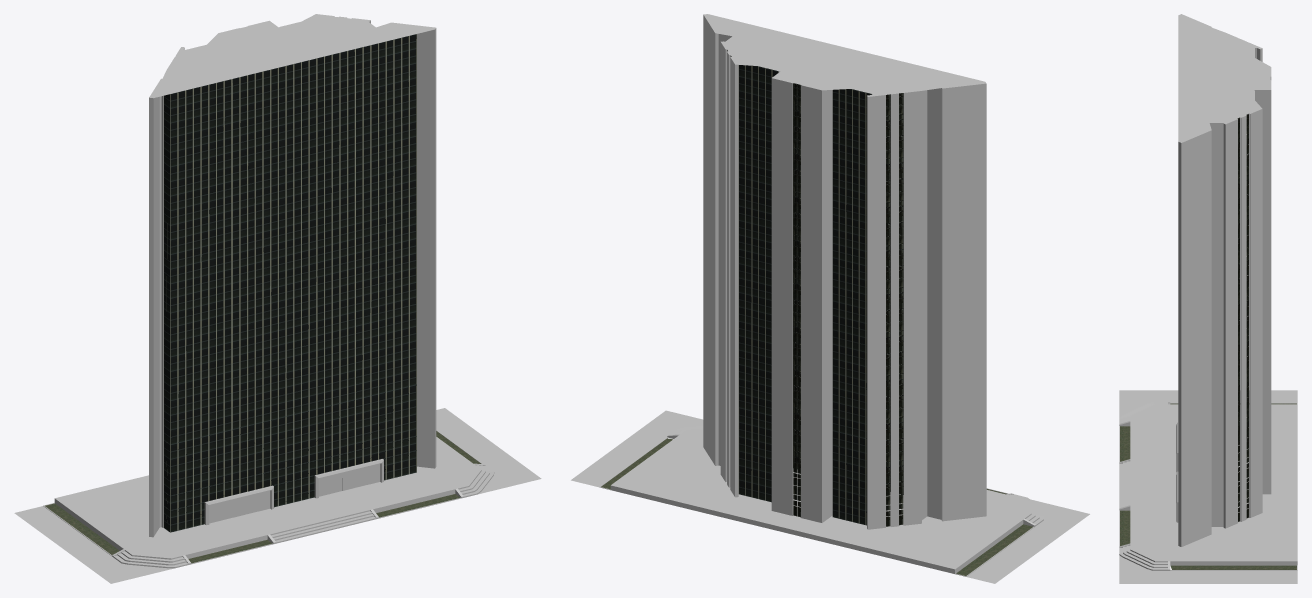
The picture shows the model from 3 angles, left to right: view 1: azimuth 30°, elevation 25°; view 2: azimuth 150°, elevation 25°; view 3: azimuth 270°, elevation 25°; orthographic projection. The views are drawn at different scales.
Parts seen in each view (by area): view 1: Building-BC-026, BC-026; view 2: Building-BC-026, BC-026; view 3: Building-BC-026, BC-026.
Part boxes in pixels (<box>): Building-BC-026: <box>149,14,436,537</box>; BC-026: <box>14,408,541,583</box>; Building-BC-026: <box>703,14,986,529</box>; BC-026: <box>571,410,1089,583</box>; Building-BC-026: <box>1176,14,1271,546</box>; BC-026: <box>1119,390,1297,583</box>.
Size of what is drawn, in the model's own units: 92.4 by 91 by 36.
